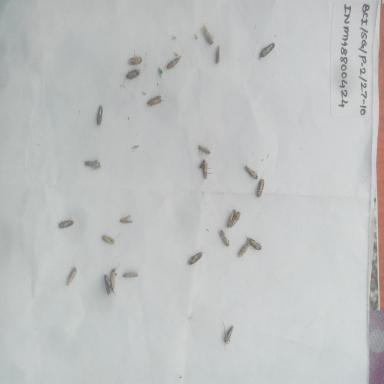pbw: (256, 38, 280, 60), (220, 320, 234, 354), (108, 262, 121, 297), (79, 156, 106, 172), (246, 233, 265, 255), (118, 208, 136, 230), (124, 50, 146, 68), (252, 176, 269, 199), (200, 23, 216, 47), (243, 161, 261, 182), (92, 103, 106, 129), (63, 265, 78, 289), (198, 158, 214, 180), (185, 250, 207, 266), (122, 68, 144, 84), (56, 215, 74, 234), (98, 230, 118, 247), (224, 204, 238, 228), (102, 272, 114, 298), (120, 266, 139, 282), (166, 54, 183, 71), (146, 93, 164, 108), (217, 229, 231, 248), (236, 240, 249, 260), (229, 210, 242, 230), (195, 142, 213, 156), (215, 43, 222, 66)
